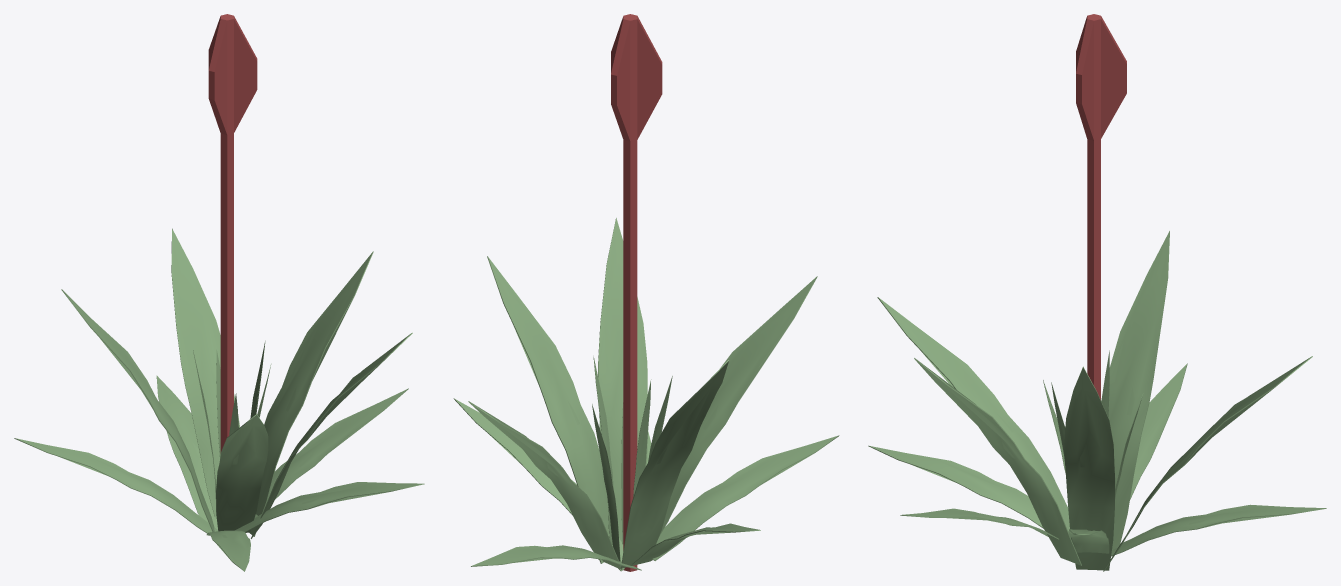
File: ThinLeafBushWithFlowerF.fbx
3 views of the same model, side by side, from view 1: azimuth 30°, elevation 25°; view 2: azimuth 150°, elevation 25°; view 3: azimuth 270°, elevation 25° (orthographic). The views are drawn at different scales.
Parts seen in each view (by area): view 1: pCube167; view 2: pCube167; view 3: pCube167.
Part boxes in pixels (x1,y1,x2,y2): pCube167: (14,14,424,571); pCube167: (453,14,839,571); pCube167: (868,14,1326,571).
Size of the model in its own units: 1.71 by 2.48 by 1.88.
